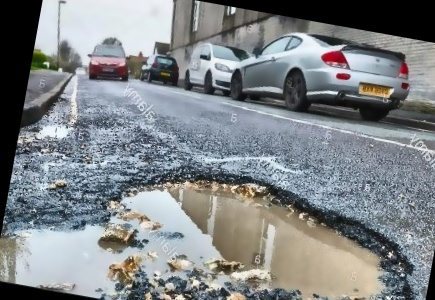pothole: (88, 147, 430, 300), (0, 198, 156, 300), (39, 117, 74, 142)
